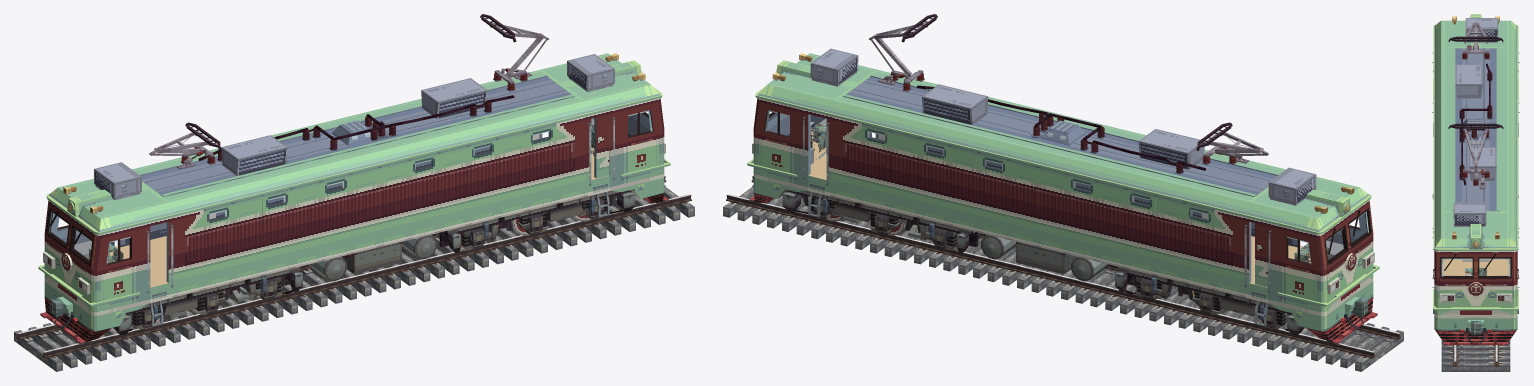
3 renders of one model, left to right at view 1: azimuth 30°, elevation 25°; view 2: azimuth 150°, elevation 25°; view 3: azimuth 270°, elevation 25°, orthographic. The views are drawn at different scales.
Visible parts, largest first — view 1: body_mesh, roof_mesh, head_mesh, track_mesh, underbody_mesh, cowcatcher_mesh; view 2: body_mesh, roof_mesh, head_mesh, track_mesh, underbody_mesh, cowcatcher_mesh; view 3: roof_mesh, head_mesh, cowcatcher_mesh, track_mesh, body_mesh.
Part boxes in pixels (<box>): body_mesh: <box>74,114,609,297</box>; roof_mesh: <box>132,14,586,220</box>; head_mesh: <box>38,53,670,316</box>; track_mesh: <box>14,175,694,371</box>; underbody_mesh: <box>113,190,635,334</box>; cowcatcher_mesh: <box>40,147,668,344</box>; body_mesh: <box>808,114,1343,297</box>; roof_mesh: <box>831,14,1285,220</box>; head_mesh: <box>747,48,1379,316</box>; track_mesh: <box>723,175,1403,371</box>; underbody_mesh: <box>782,190,1304,334</box>; cowcatcher_mesh: <box>749,129,1377,344</box>; roof_mesh: <box>1433,22,1518,218</box>; head_mesh: <box>1432,14,1519,318</box>; cowcatcher_mesh: <box>1433,123,1518,345</box>; track_mesh: <box>1441,340,1510,371</box>; body_mesh: <box>1443,259,1508,275</box>.
Bounding box in the file's own units: 22 × 7.08 × 3.16.
Materials: 2 (2 with a texture image).
